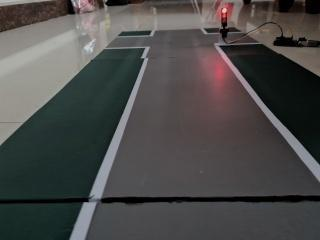red: (216, 6, 231, 39)
